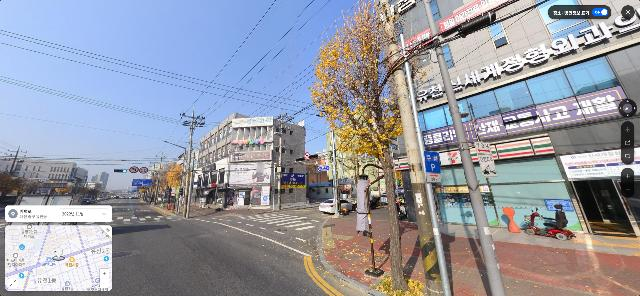ginkgo: (312, 0, 433, 296), (160, 162, 185, 210), (337, 139, 358, 193)
other: (4, 173, 36, 208)
